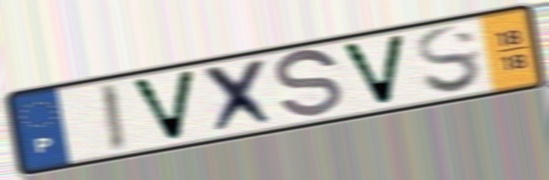I: (95, 80, 131, 156)
S: (271, 45, 346, 123), (413, 23, 486, 96)
V: (336, 31, 411, 109), (126, 67, 201, 144)
X: (200, 55, 281, 138)
